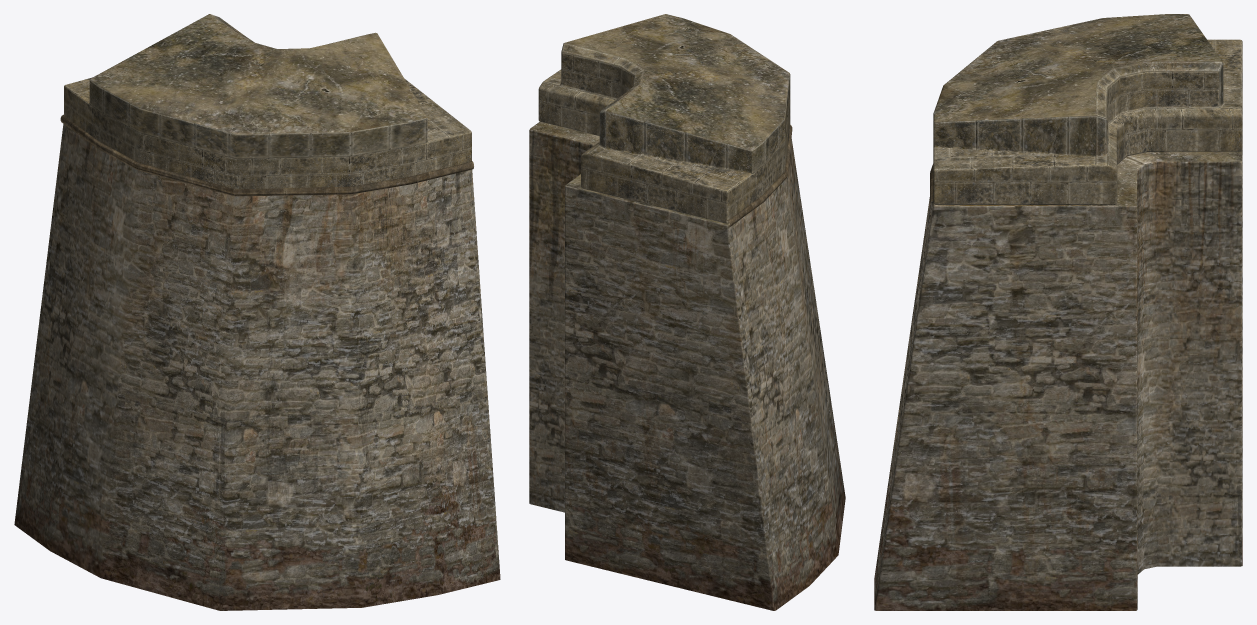
Rendered from modular_fort_01_wall_thick_corner_01.gltf.
3 views of the same model, side by side, from view 1: azimuth 30°, elevation 25°; view 2: azimuth 150°, elevation 25°; view 3: azimuth 270°, elevation 25° (orthographic). The views are drawn at different scales.
Visible parts, largest first — view 1: modular_fort_01_wall_thick_corner_01__x; view 2: modular_fort_01_wall_thick_corner_01__x; view 3: modular_fort_01_wall_thick_corner_01__x.
Part boxes in pixels (x1,y1,x2,y2): modular_fort_01_wall_thick_corner_01__x: [14, 14, 500, 610]; modular_fort_01_wall_thick_corner_01__x: [529, 14, 845, 610]; modular_fort_01_wall_thick_corner_01__x: [874, 14, 1242, 610].
Size of the model in its own units: 5.84 by 8.53 by 5.84.
2 materials, 2 textured.
